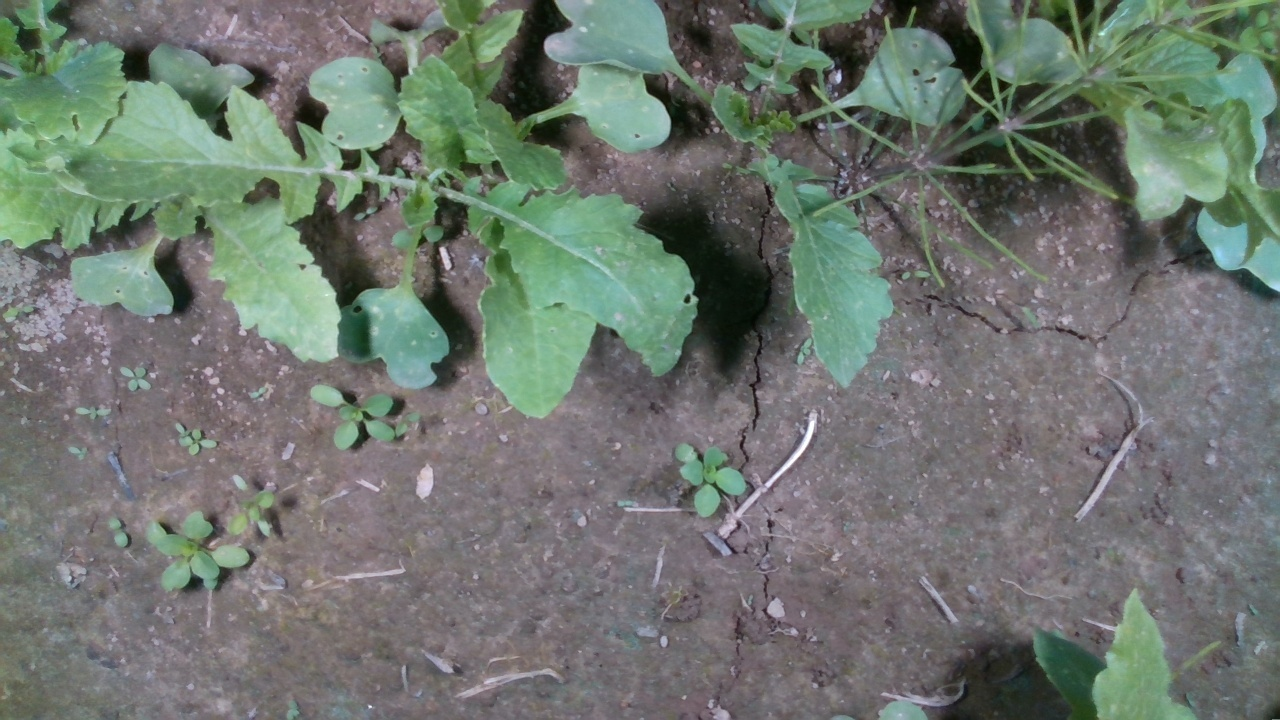weed: (118, 365, 152, 392), (106, 515, 129, 549), (72, 403, 115, 420), (66, 443, 92, 462)
